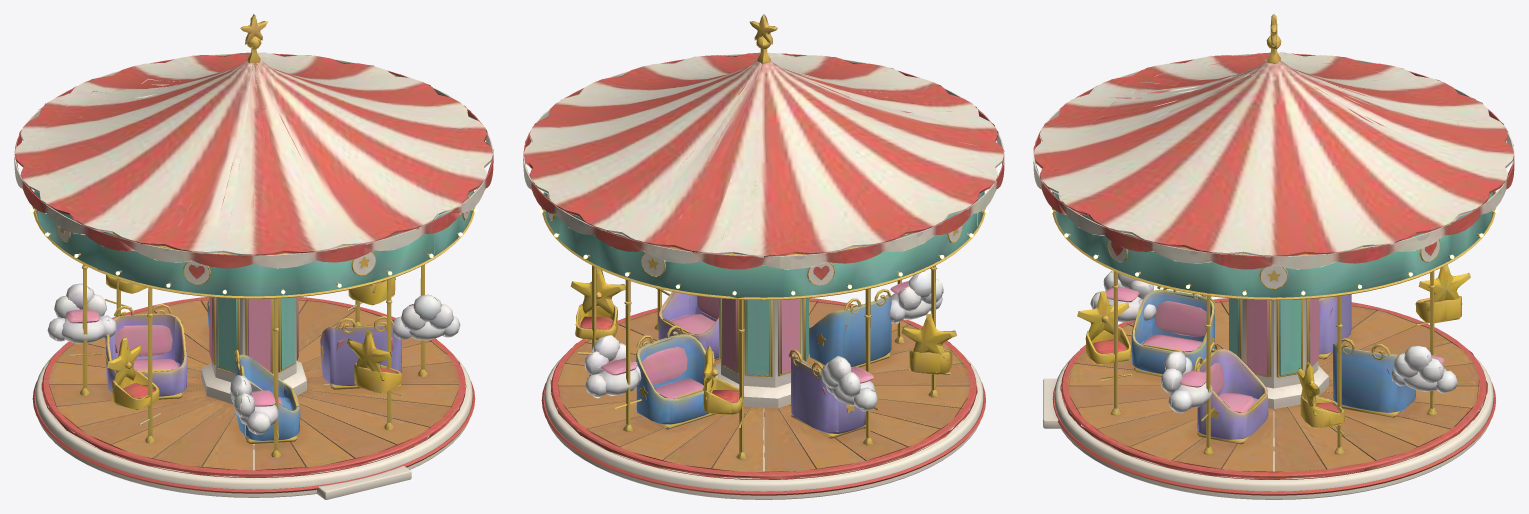
File: carousel.glb
3 renders of one model, left to right at view 1: azimuth 30°, elevation 25°; view 2: azimuth 150°, elevation 25°; view 3: azimuth 270°, elevation 25°, orthographic.
Visible parts, largest first — view 1: carousel_spin, carousel_body; view 2: carousel_spin, carousel_body; view 3: carousel_spin, carousel_body.
Boxes of the visible parts, bbox=[...] form: carousel_spin: bbox=[14, 14, 493, 477]; carousel_body: bbox=[32, 350, 475, 499]; carousel_spin: bbox=[523, 14, 1004, 479]; carousel_body: bbox=[541, 352, 985, 499]; carousel_spin: bbox=[1033, 14, 1514, 479]; carousel_body: bbox=[1043, 352, 1495, 499].
Bounding box in the file's own units: 7.17 × 6.47 × 7.17.
3 materials, 2 textured.
